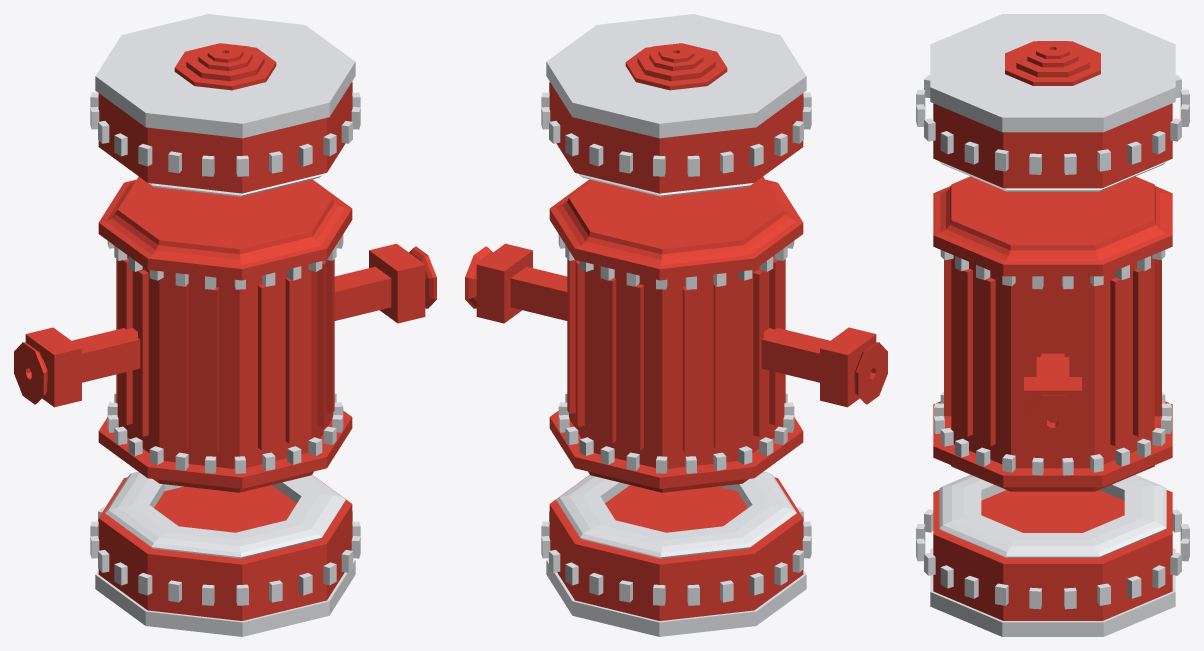
Rendered from rook-ornate.glb.
3 renders of one model, left to right at view 1: azimuth 30°, elevation 25°; view 2: azimuth 150°, elevation 25°; view 3: azimuth 270°, elevation 25°, orthographic.
Visible parts, largest first — view 1: rook-ornate; view 2: rook-ornate; view 3: rook-ornate.
Boxes of the visible parts, bbox=[...] form: rook-ornate: bbox=[14, 14, 436, 636]; rook-ornate: bbox=[465, 14, 887, 636]; rook-ornate: bbox=[916, 14, 1189, 636].
Bounding box in the file's own units: 0.71 × 0.944 × 0.4227.
